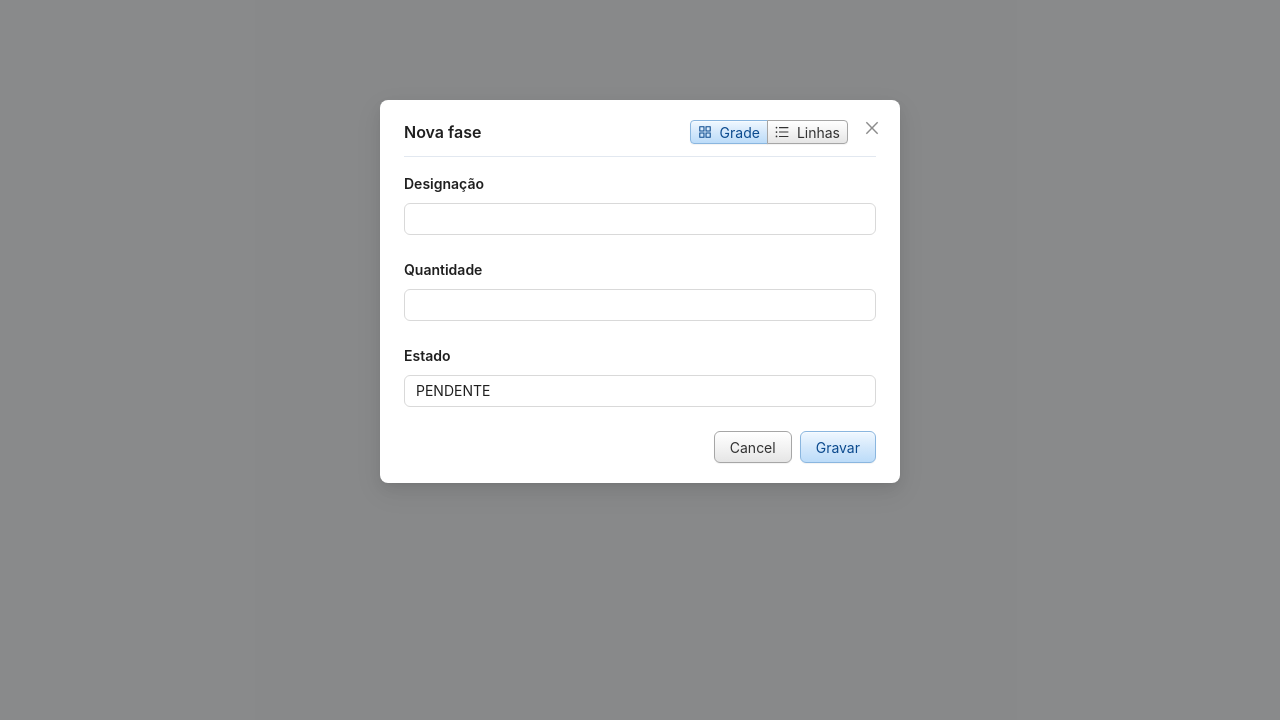
Test: ModalFormulario — Grade | Linhas › adicionar, duplicar a última, remover linhas e contador
Click the button "Linhas" at (807, 132), box top-left (767, 120), bottom-right (848, 144)
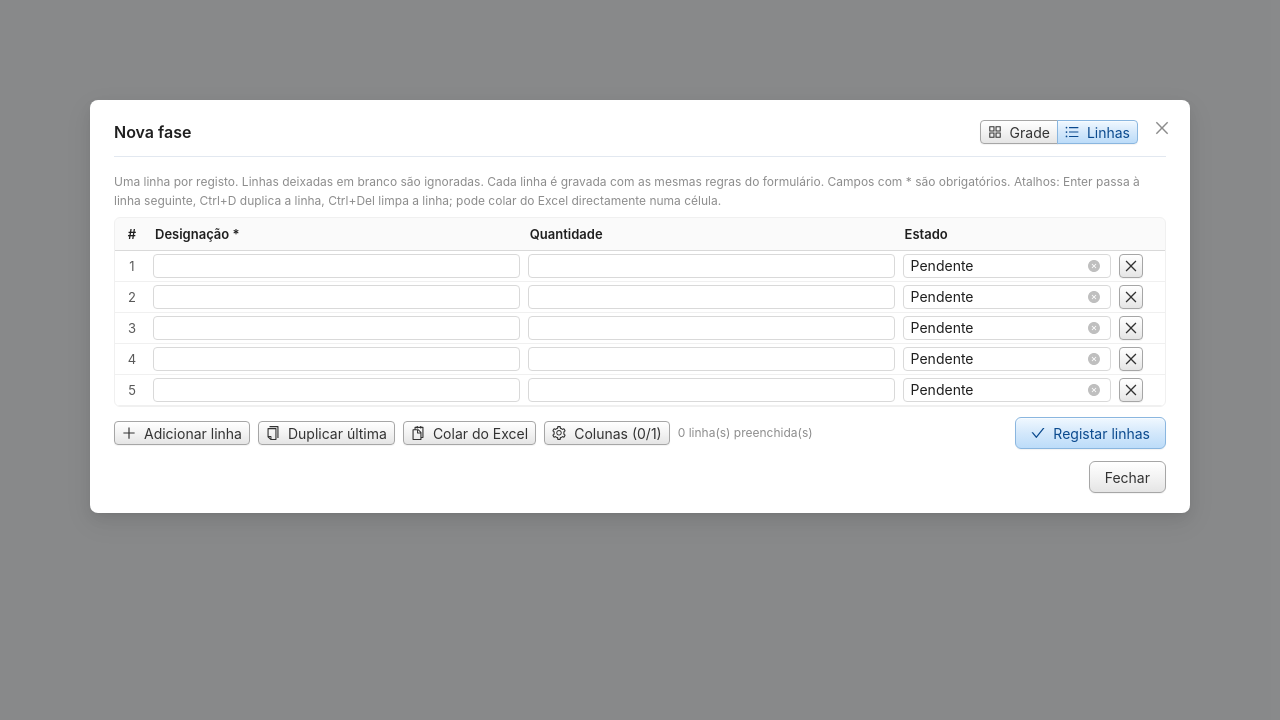
Expected: the element with test id "painel-linhas" is shown, top-left (114, 173), bottom-right (1166, 449)
Expected: the text with test id "contagem-linhas" reads "0 linha(s) preenchida(s)", top-left (678, 424), bottom-right (813, 442)
Type "Fundações" into the field named "Designação, linha 1" at (336, 266), box top-left (153, 254), bottom-right (520, 278)
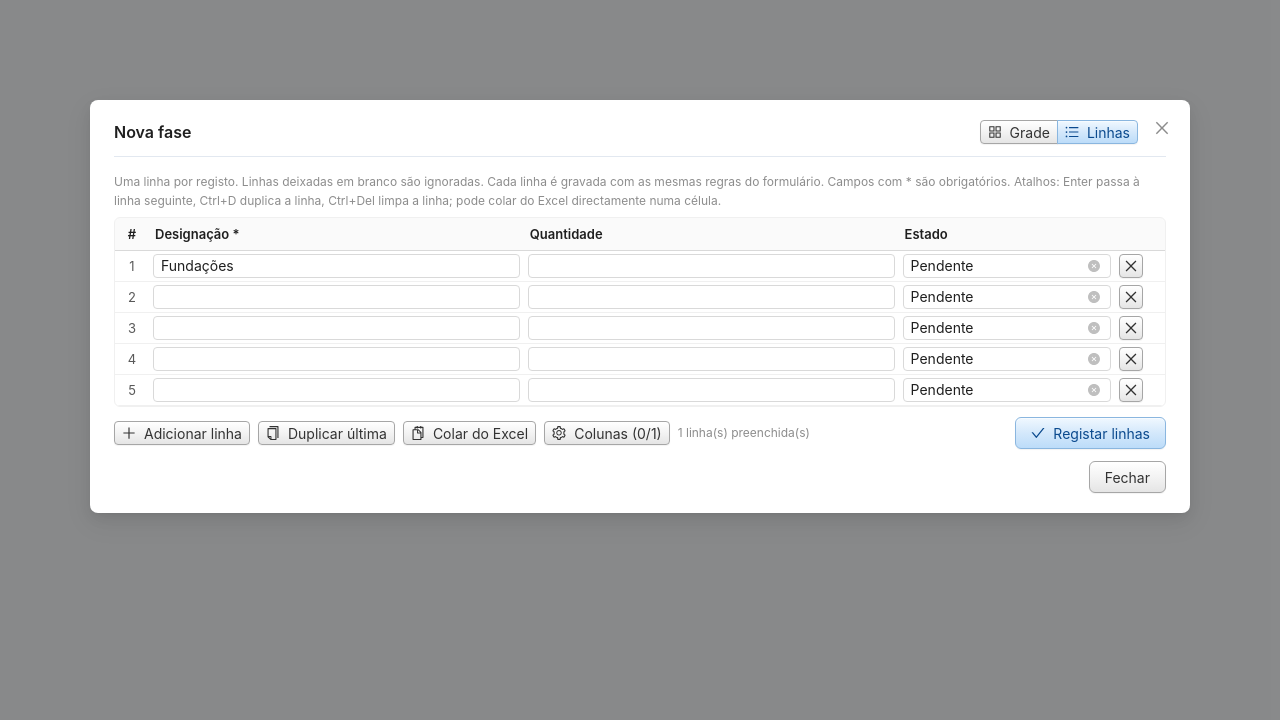
Expected: the text with test id "contagem-linhas" reads "1 linha(s) preenchida(s)", top-left (678, 424), bottom-right (810, 442)
Click the button "Adicionar linha" at (182, 433), box top-left (114, 421), bottom-right (250, 445)
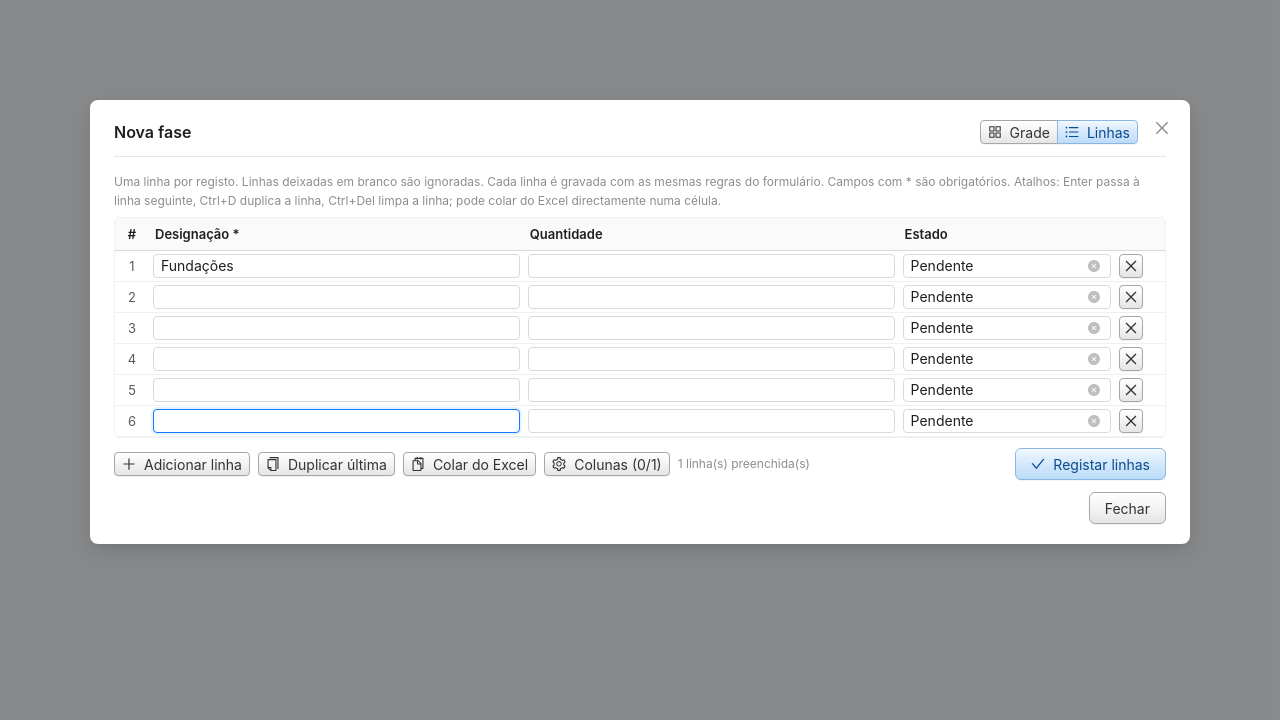
Expected: the number of rows with test id "linha-formulario" is 6, top-left (115, 251), bottom-right (1165, 282); top-left (115, 282), bottom-right (1165, 313); top-left (115, 313), bottom-right (1165, 344); top-left (115, 344), bottom-right (1165, 375); top-left (115, 375), bottom-right (1165, 406); top-left (115, 406), bottom-right (1165, 437)
Click the button "Duplicar última" at (326, 464), box top-left (258, 452), bottom-right (395, 476)
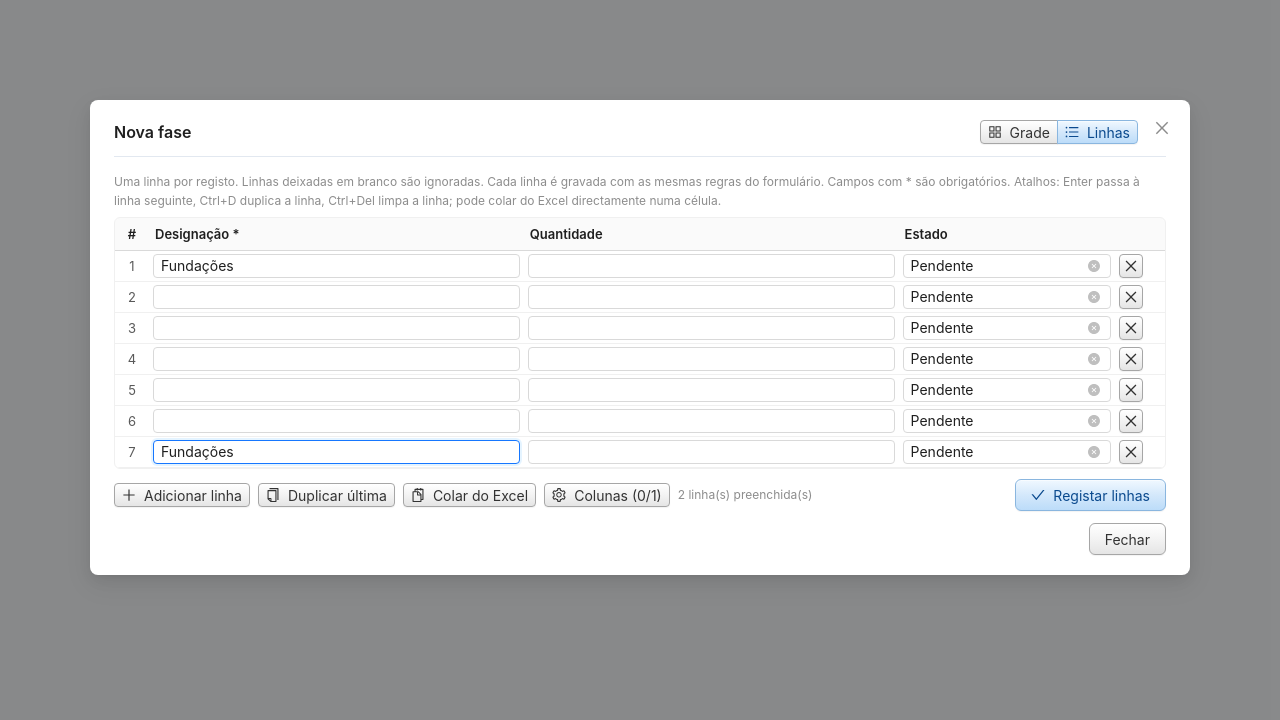
Expected: the number of rows with test id "linha-formulario" is 7
Click the button named "Remover linha 7" at (1131, 452), box top-left (1119, 440), bottom-right (1143, 464)
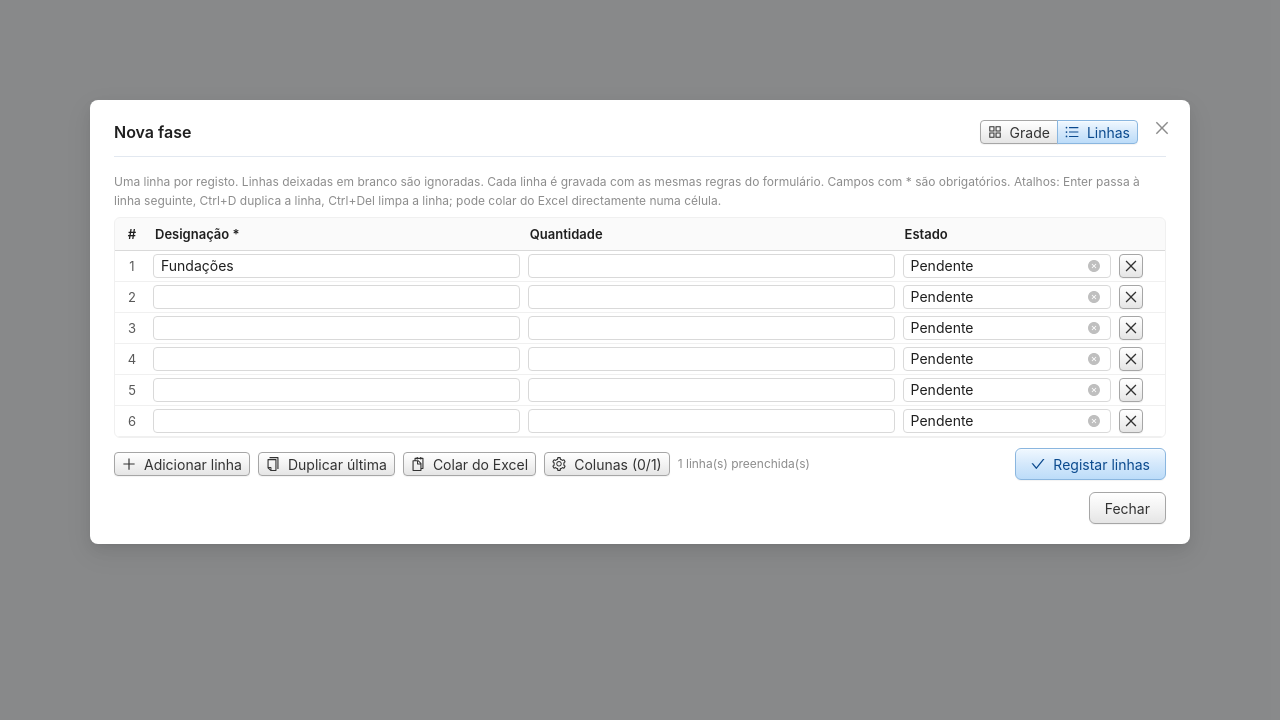
Expected: the number of rows with test id "linha-formulario" is 6, top-left (115, 251), bottom-right (1165, 282); top-left (115, 282), bottom-right (1165, 313); top-left (115, 313), bottom-right (1165, 344); top-left (115, 344), bottom-right (1165, 375); top-left (115, 375), bottom-right (1165, 406); top-left (115, 406), bottom-right (1165, 437)
Expected: the text with test id "contagem-linhas" reads "1 linha(s) preenchida(s)", top-left (678, 455), bottom-right (810, 474)
